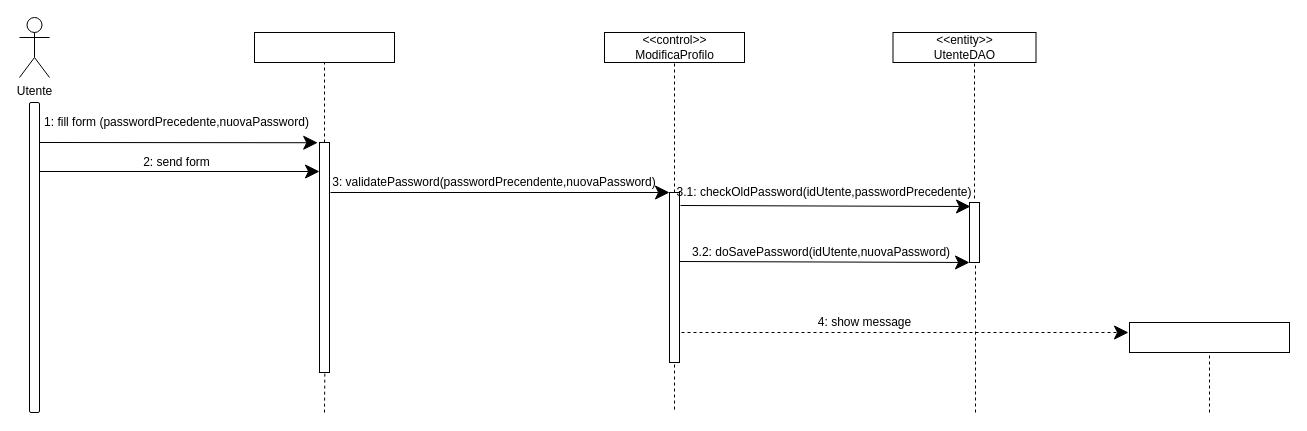
This 1307x431 diagram has some shape labels left out. The shapes that lost their labels are listed below. From the top down, each one's centre as x and y in pixels, then its label:
At point (324, 47): "<<boundary>> ModuloCambioPassword".
At point (1209, 337): "<<boundary>> NotificaPasswordAggiornata".
